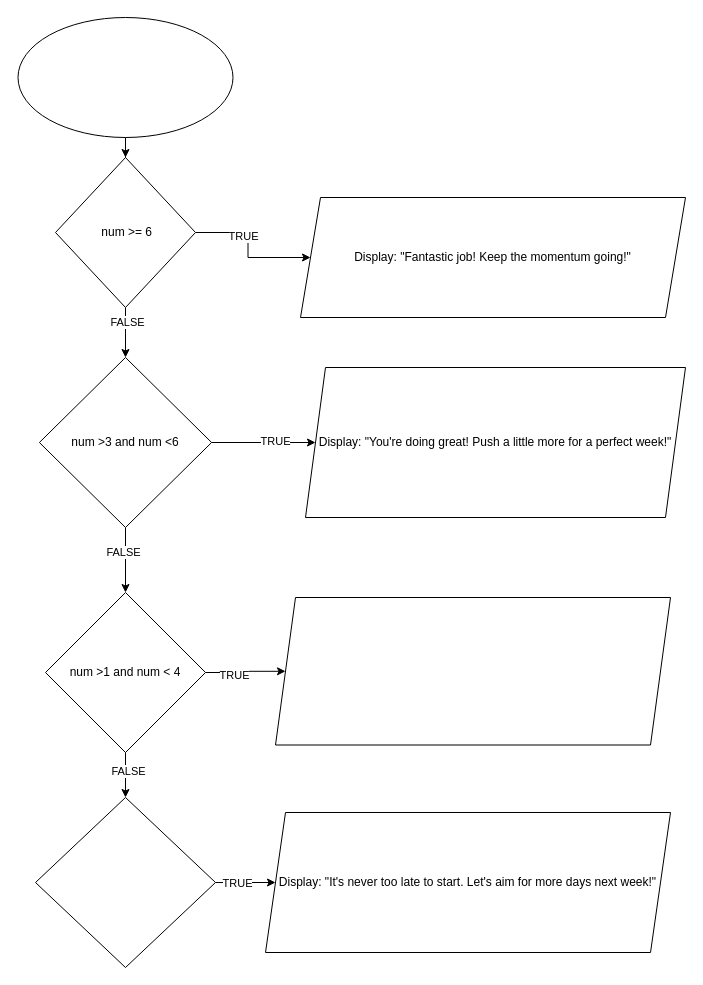
Image size: 703x985. Some labels were removed from this diagram. The centre of each missing label's shape, as x and y in pixels:
Display: "Good effort! How about adding one more day next week?": [472,670]
Input: num = Number of days exercised (0-7): [125,77]
num <= 1: [125,882]
